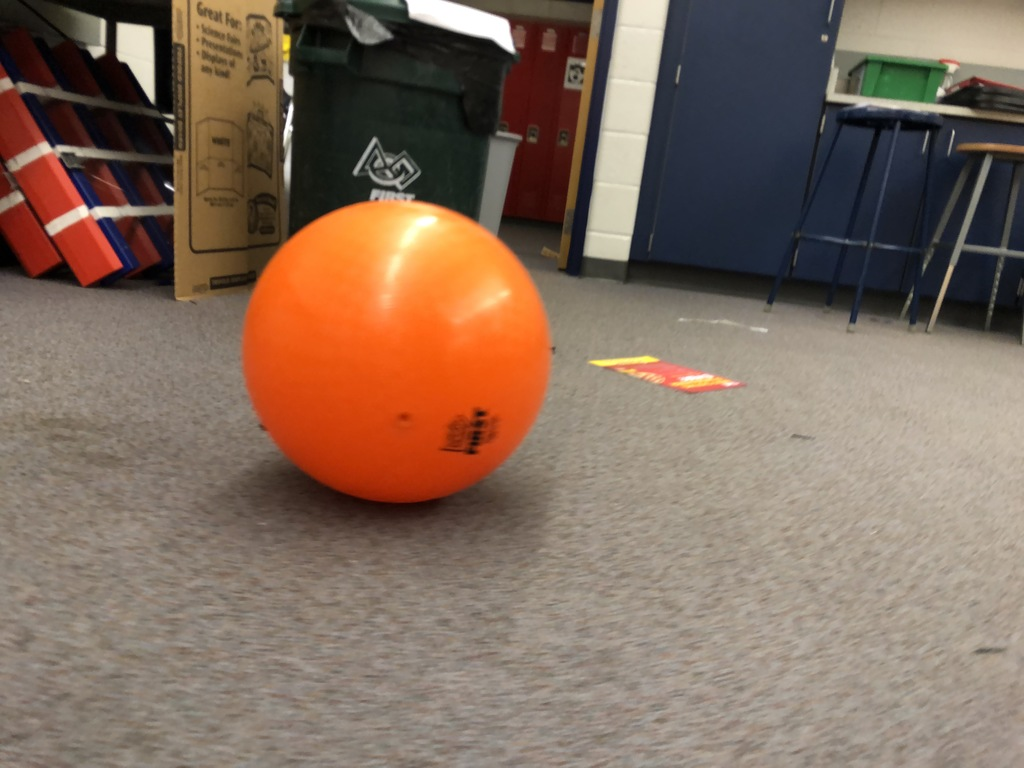cargo: (240, 188, 565, 523)
